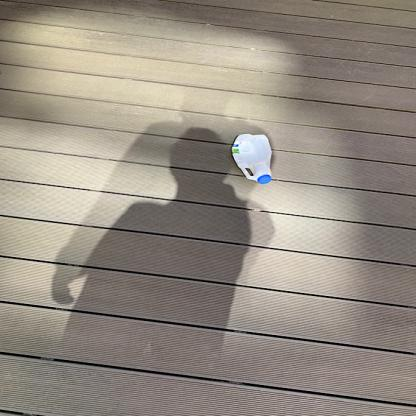trash: (232, 134, 277, 184)
